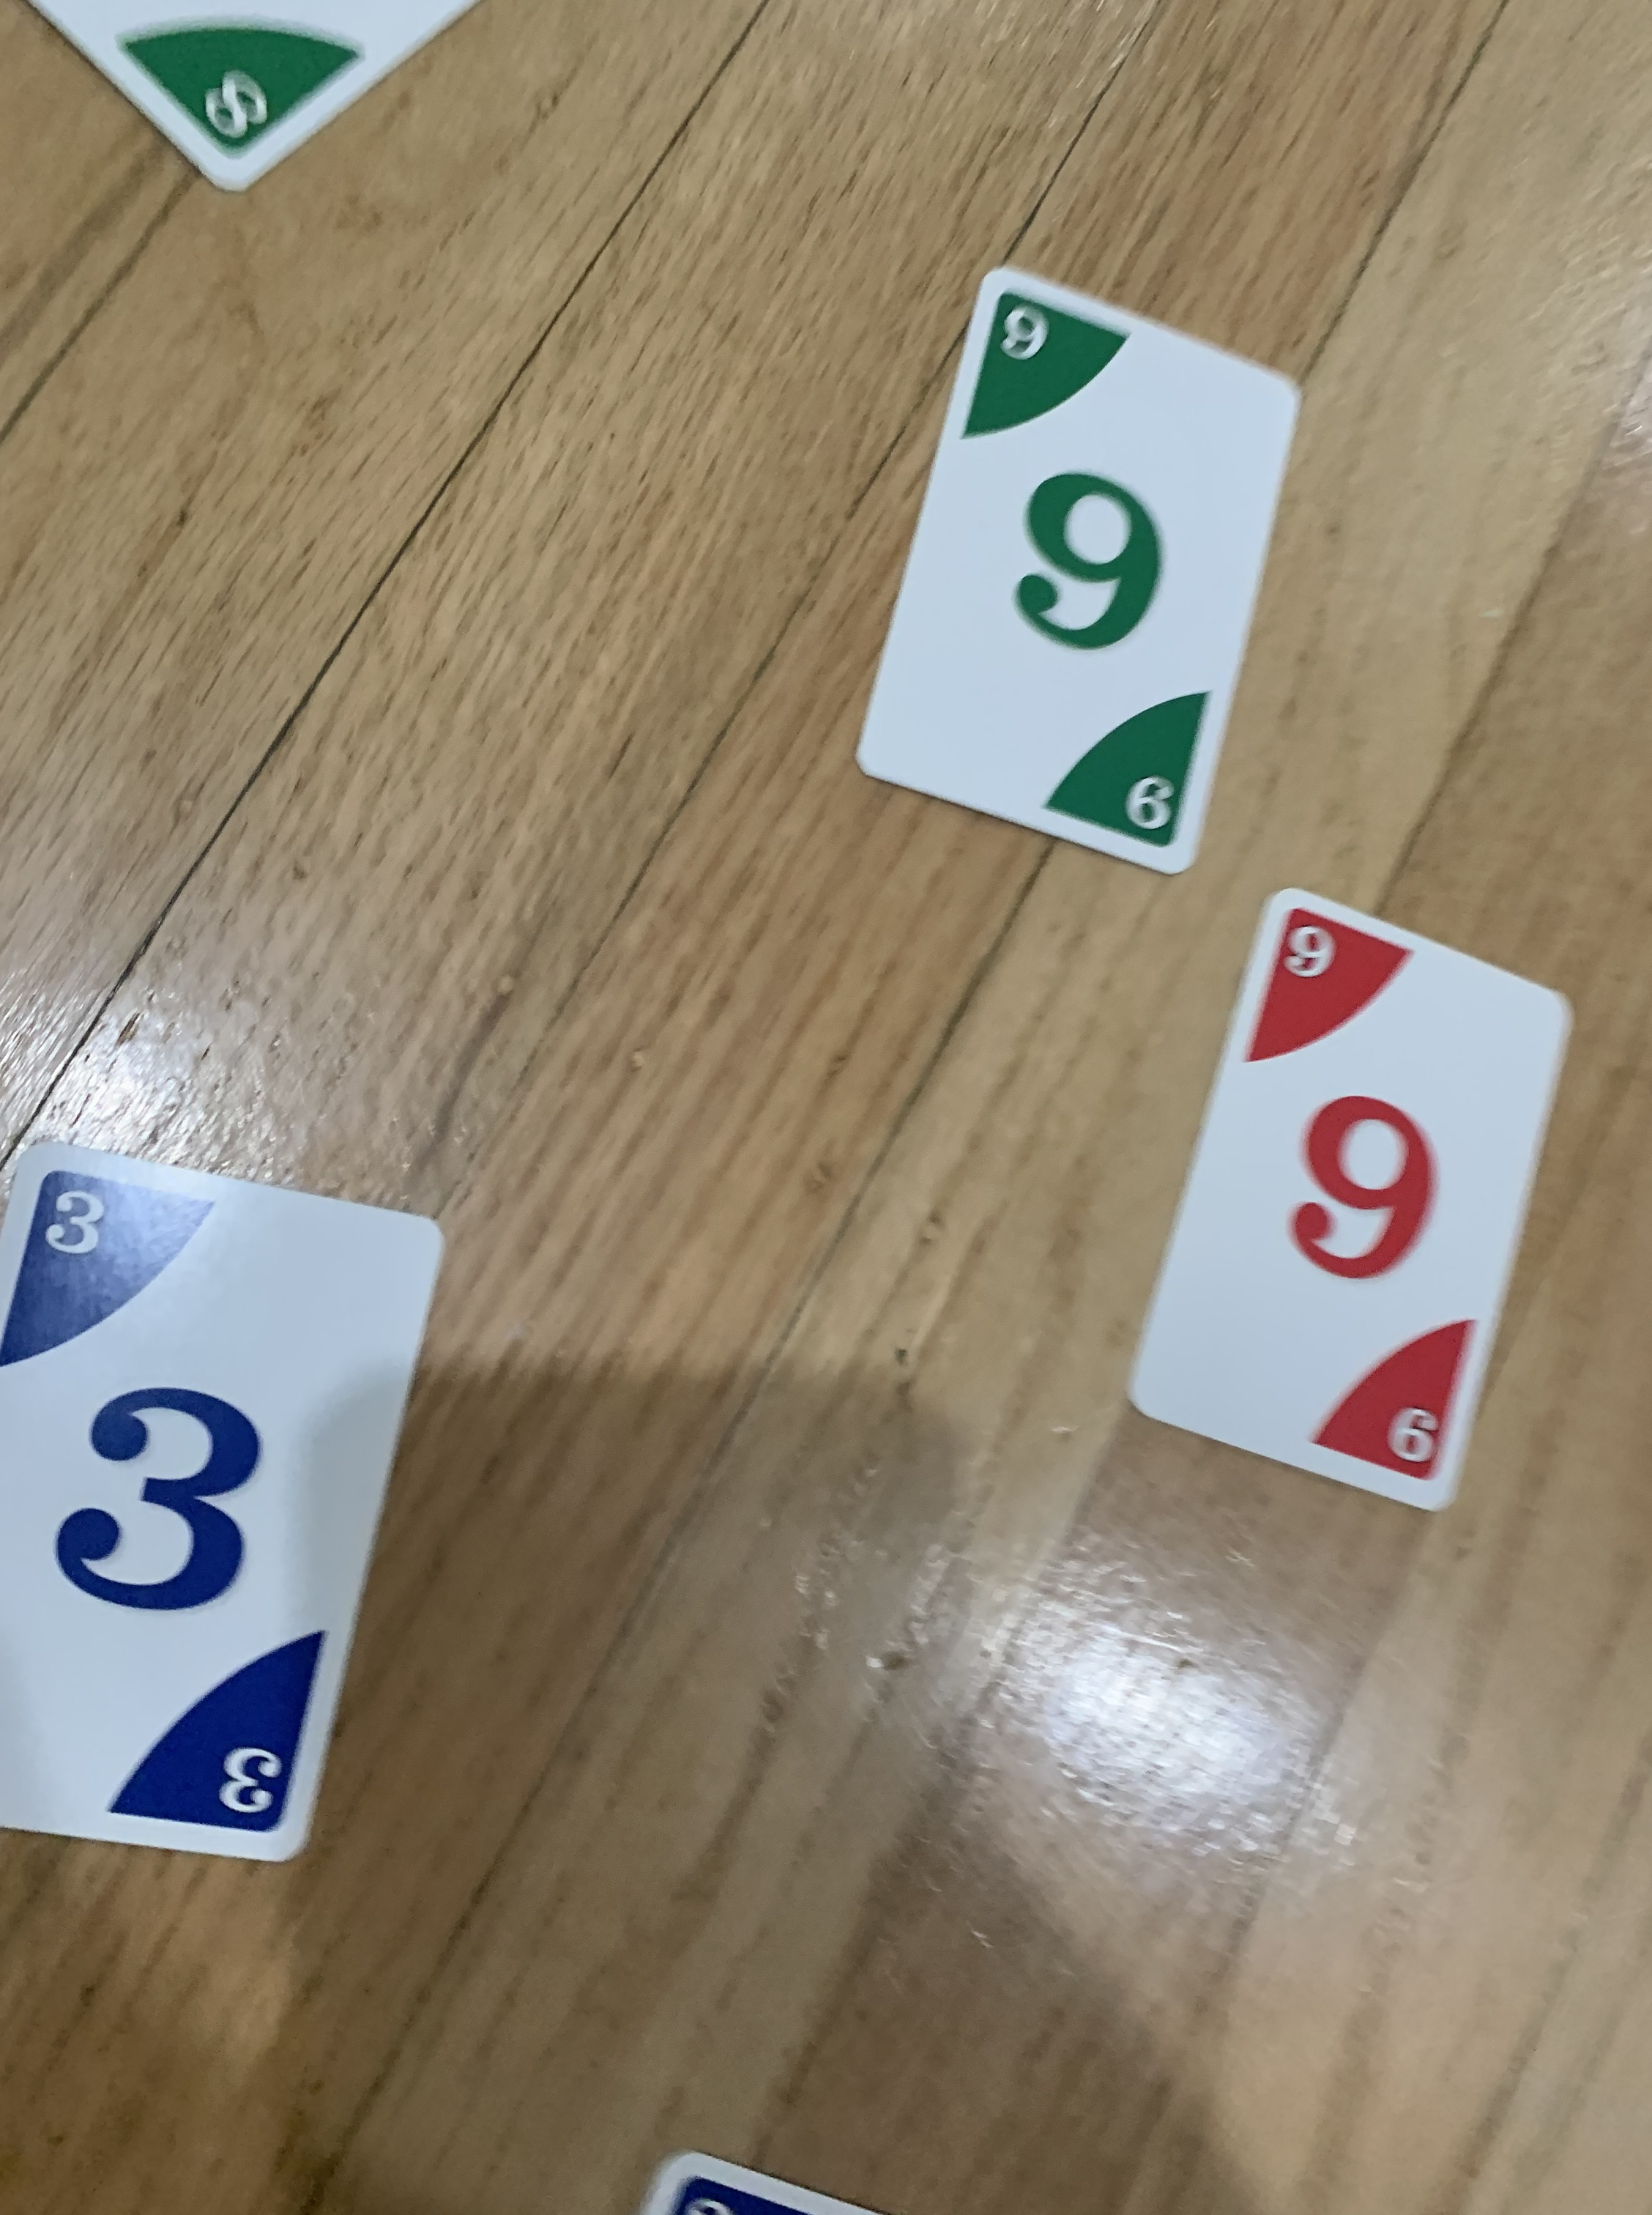nine: (850, 264, 1308, 882), (1119, 882, 1567, 1514)
three: (3, 1140, 451, 1873)
